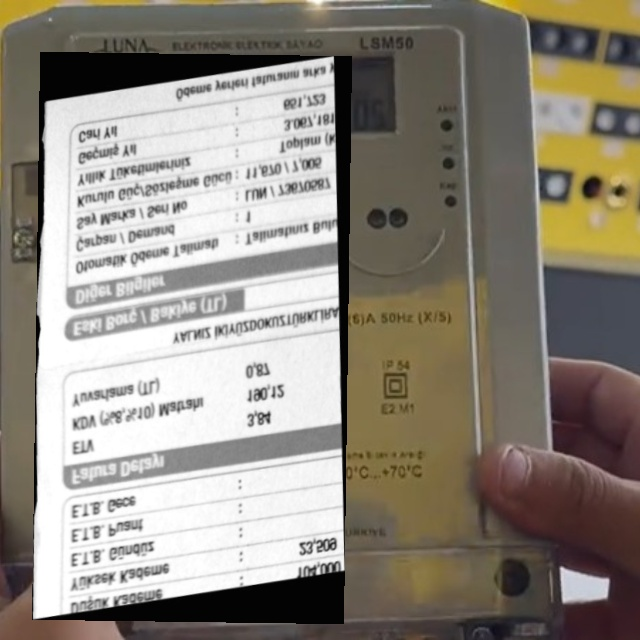electricity-bill: (32, 52, 352, 624)
